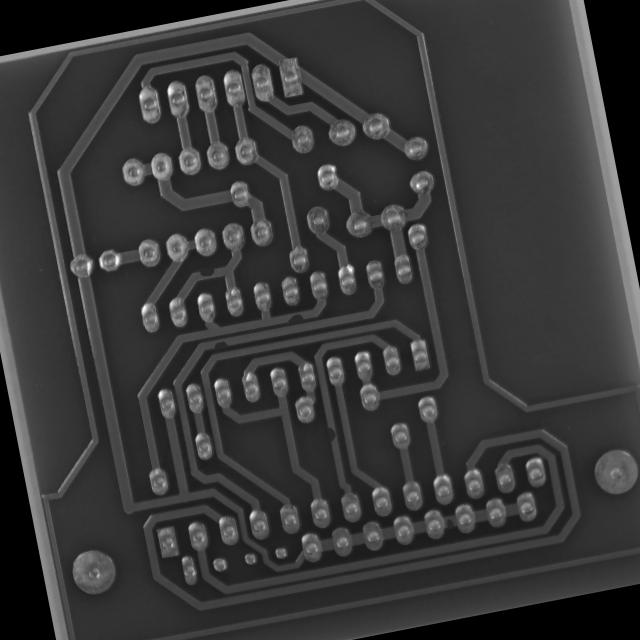mouse_bite: (280, 307, 310, 328), (438, 508, 461, 534), (193, 262, 220, 284), (320, 422, 342, 448), (207, 334, 233, 354)
